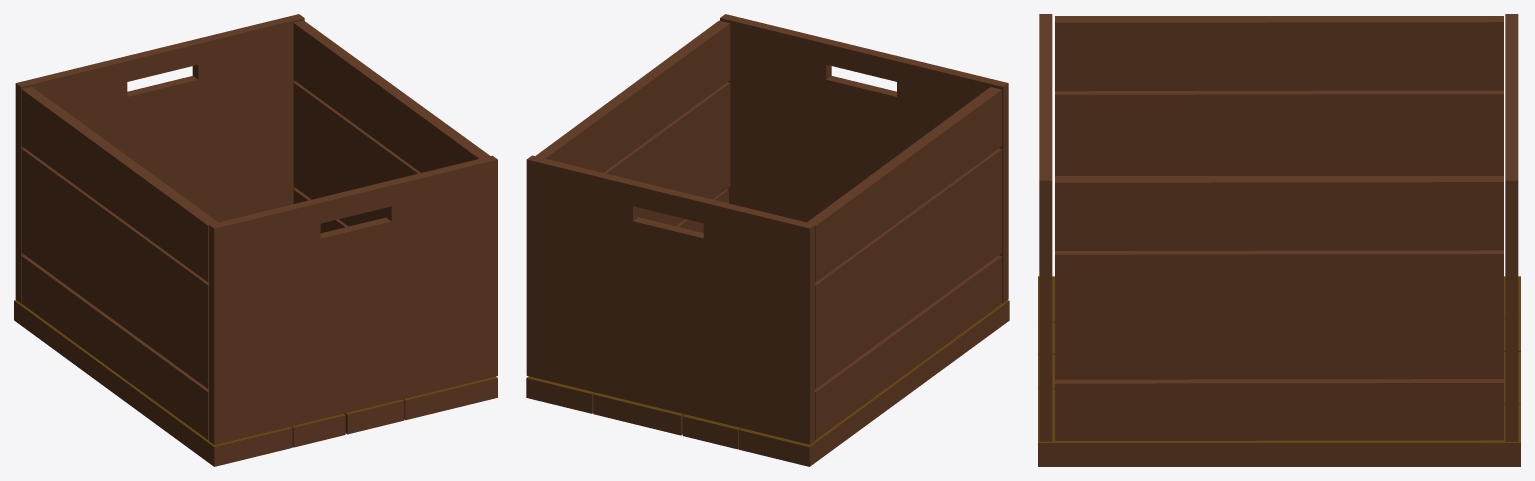
The model's file is crate02.obj.
3 renders of one model, left to right at view 1: azimuth 30°, elevation 25°; view 2: azimuth 150°, elevation 25°; view 3: azimuth 270°, elevation 25°, orthographic. The views are drawn at different scales.
Parts seen in each view (by area): view 1: Cube.005_Cube.006; view 2: Cube.005_Cube.006; view 3: Cube.005_Cube.006.
Boxes of the visible parts, bbox=[...] form: Cube.005_Cube.006: bbox=[14, 14, 497, 466]; Cube.005_Cube.006: bbox=[526, 14, 1009, 466]; Cube.005_Cube.006: bbox=[1038, 14, 1520, 466].
Bounding box in the file's own units: 0.3011 × 0.2408 × 0.3677.
